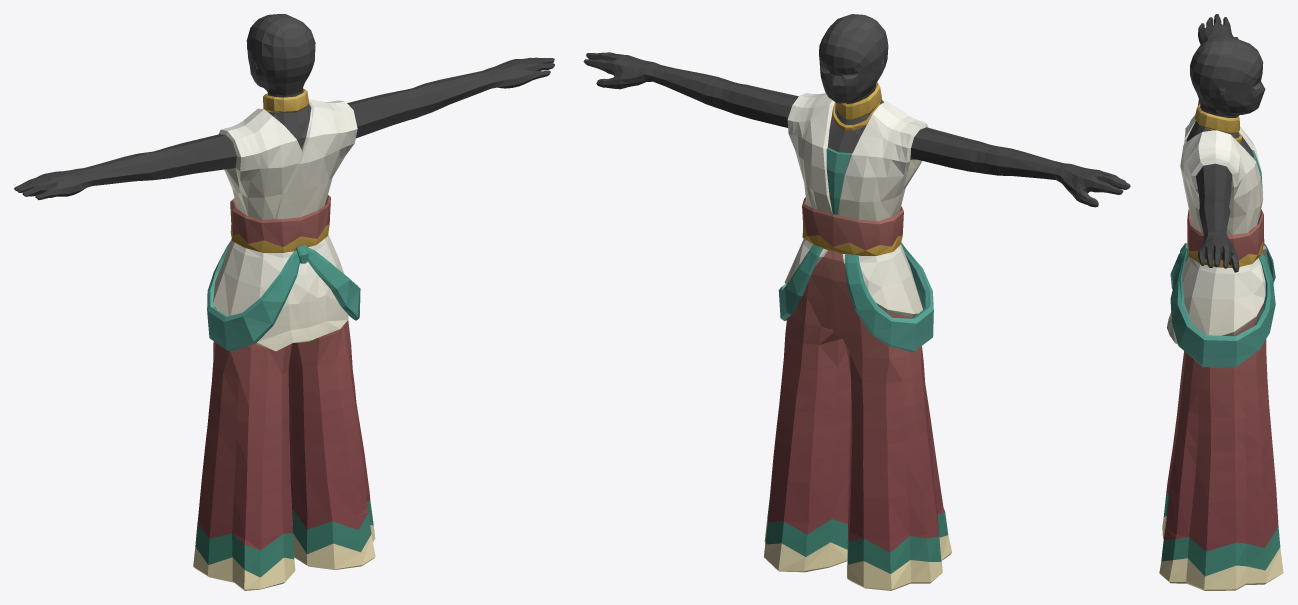
Rendered from NPC_AP21SilkRaiment.glb.
3 renders of one model, left to right at view 1: azimuth 30°, elevation 25°; view 2: azimuth 150°, elevation 25°; view 3: azimuth 270°, elevation 25°, orthographic. The views are drawn at different scales.
Visible parts, largest first — view 1: NPC_AP21SilkRaiment; view 2: NPC_AP21SilkRaiment; view 3: NPC_AP21SilkRaiment.
Part boxes in pixels (x1=…): NPC_AP21SilkRaiment: x1=14, y1=14, x2=554, y2=590; NPC_AP21SilkRaiment: x1=583, y1=14, x2=1130, y2=590; NPC_AP21SilkRaiment: x1=1159, y1=14, x2=1283, y2=590.
Bounding box in the file's own units: 14.22 × 13.68 × 2.98.
Materials: 1 (1 with a texture image).
